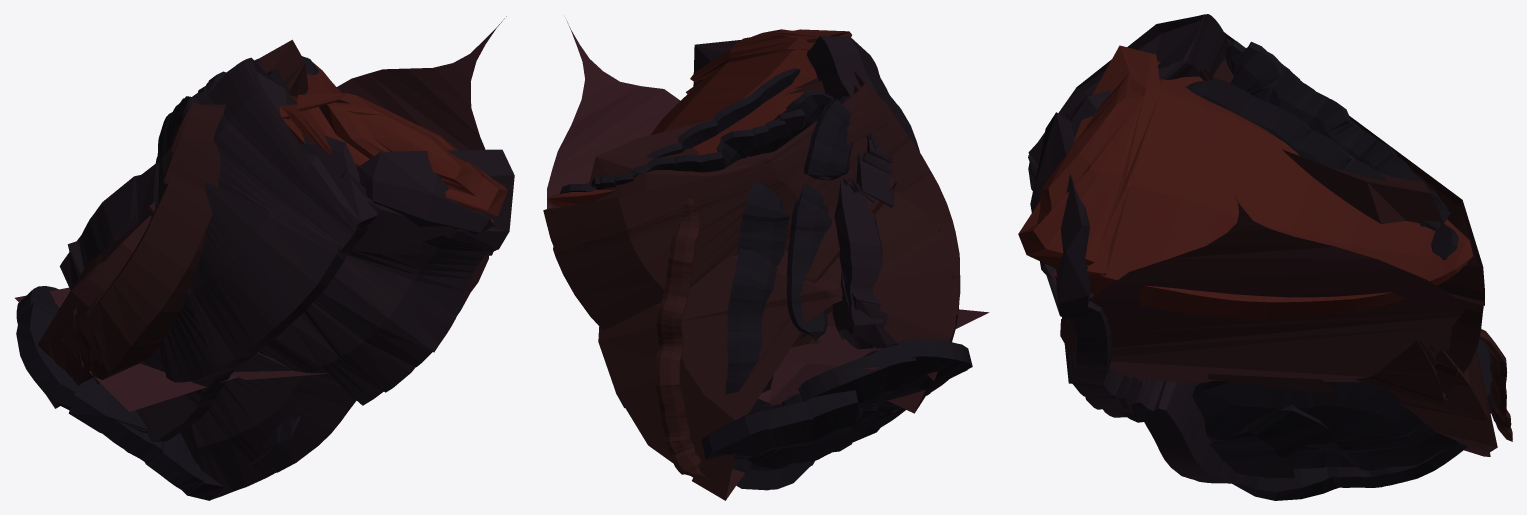
File: Stone_World2_04.fbx
3 views of the same model, side by side, from view 1: azimuth 30°, elevation 25°; view 2: azimuth 150°, elevation 25°; view 3: azimuth 270°, elevation 25° (orthographic). The views are drawn at different scales.
Visible parts, largest first — view 1: NewLayer3; view 2: NewLayer3; view 3: NewLayer3.
Part boxes in pixels (left/top/right/bottom): NewLayer3: left=15, top=16, right=514, bottom=500; NewLayer3: left=543, top=20, right=989, bottom=500; NewLayer3: left=1018, top=14, right=1512, bottom=500.
Size of the model in its own units: 0.4539 by 0.42 by 0.385.
